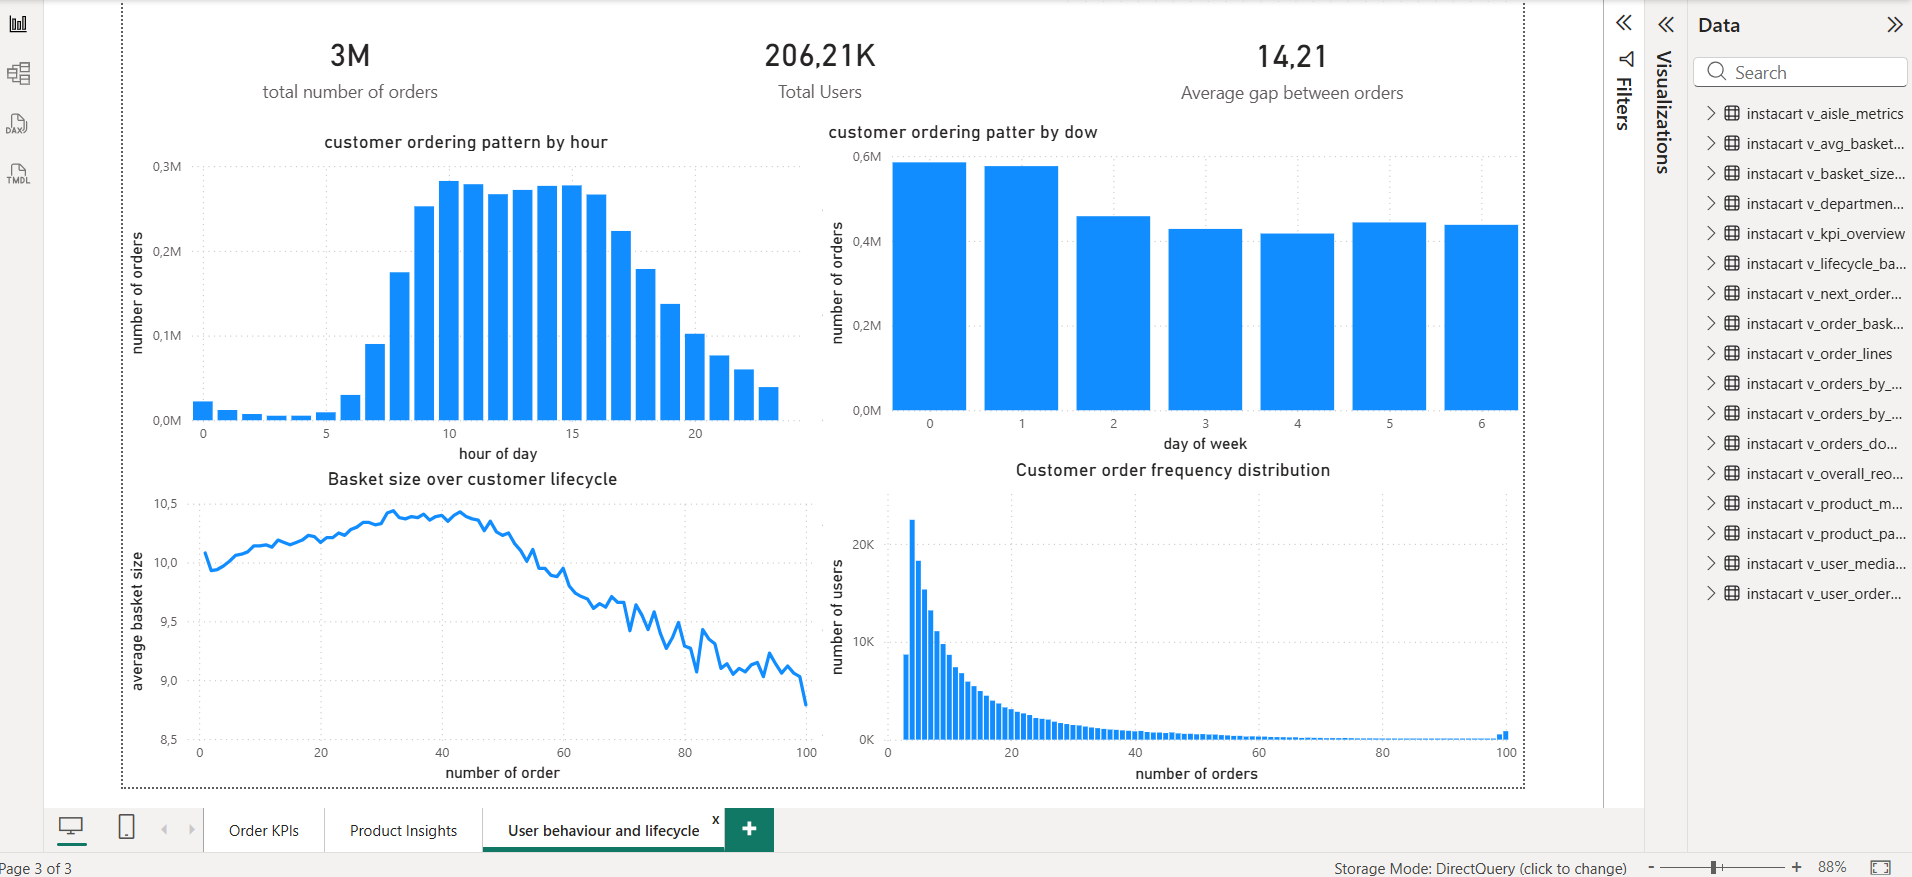

This screenshot's page, from the dashboard's own definition file:
{"tool":"powerbi","page":{"name":"User behaviour and lifecycle","canvas":[1280,720],"ordinal":2},"visuals":[{"type":"card","fields":{"Values":["Sum(instacart v_user_order_counts.order_count)"]},"box":[0,0,415.8,118.6],"z":0},{"type":"card","fields":{"Values":["Avg(instacart v_user_median_order_gap.median_days_between_orders)"]},"box":[858.4,2.4,421.9,116.2],"z":1000},{"type":"card","fields":{"Values":["Count(instacart v_user_order_counts.user_id)"]},"box":[415.8,0,442.7,118.6],"z":2000},{"type":"lineChart","title":"Basket size over customer lifecycle","fields":{"Category":["instacart v_lifecycle_basket_size.order_number"],"Y":["Sum(instacart v_lifecycle_basket_size.avg_basket_size)"]},"box":[0,428,639.5,292.3],"z":3000},{"type":"clusteredColumnChart","title":"customer ordering pattern by hour","fields":{"Category":["instacart v_orders_by_hour.hour_of_day"],"Y":["Sum(instacart v_orders_by_hour.number_of_orders)"]},"box":[0,118.6,627.3,309.4],"z":4000},{"type":"clusteredColumnChart","title":"customer ordering patter by dow","fields":{"Y":["Sum(instacart v_orders_by_dow.number_of_orders)"],"Category":["instacart v_orders_by_dow.day_of_week"]},"box":[639.5,110.1,640.8,309.4],"z":5000},{"type":"clusteredColumnChart","title":"Customer order frequency distribution","fields":{"Category":["instacart v_user_order_counts.order_count"],"Y":["CountNonNull(instacart v_user_order_counts.order_count)"]},"box":[639.5,419.4,640.8,300.8],"z":6000}]}

Visuals, with their boxes on the page's 1280x720 design canvas (x1, y1, x2, y2). These are canvas units, not pixel positions in the 1912x877 screenshot, which may show the page scaled, cropped or inside an application window:
card - Sum(instacart v_user_order_counts.order_count): 0:0:416:119
card - Avg(instacart v_user_median_order_gap.median_days_between_orders): 858:2:1280:119
card - Count(instacart v_user_order_counts.user_id): 416:0:858:119
"Basket size over customer lifecycle" lineChart: 0:428:640:720
"customer ordering pattern by hour" clusteredColumnChart: 0:119:627:428
"customer ordering patter by dow" clusteredColumnChart: 640:110:1280:420
"Customer order frequency distribution" clusteredColumnChart: 640:419:1280:720
